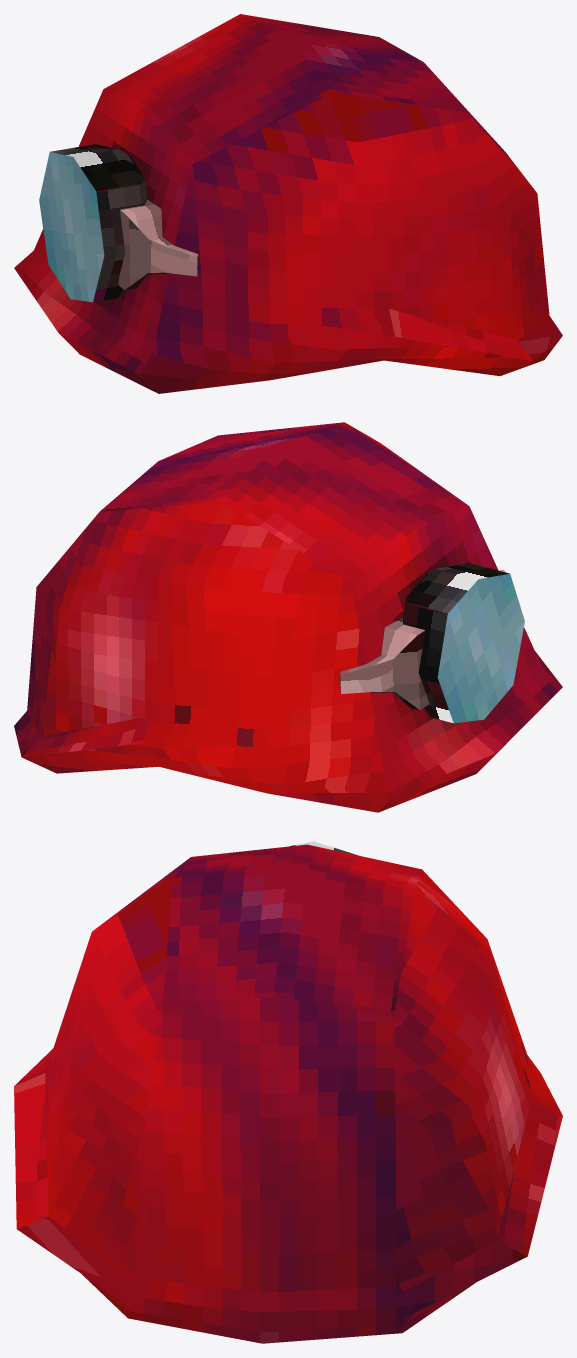
File: ps2_save-icons_maniacmole.glb
3 views of the same model, one above another, from view 1: azimuth 30°, elevation 25°; view 2: azimuth 150°, elevation 25°; view 3: azimuth 270°, elevation 25° (orthographic). The views are drawn at different scales.
Visible parts, largest first — view 1: icon.ico; view 2: icon.ico; view 3: icon.ico.
Part boxes in pixels (x1=…): icon.ico: x1=14, y1=14, x2=562, y2=393; icon.ico: x1=14, y1=422, x2=562, y2=812; icon.ico: x1=14, y1=841, x2=562, y2=1343.
Size of the model in its own units: 5 by 3.38 by 4.7.
Materials: 1 (1 with a texture image).
